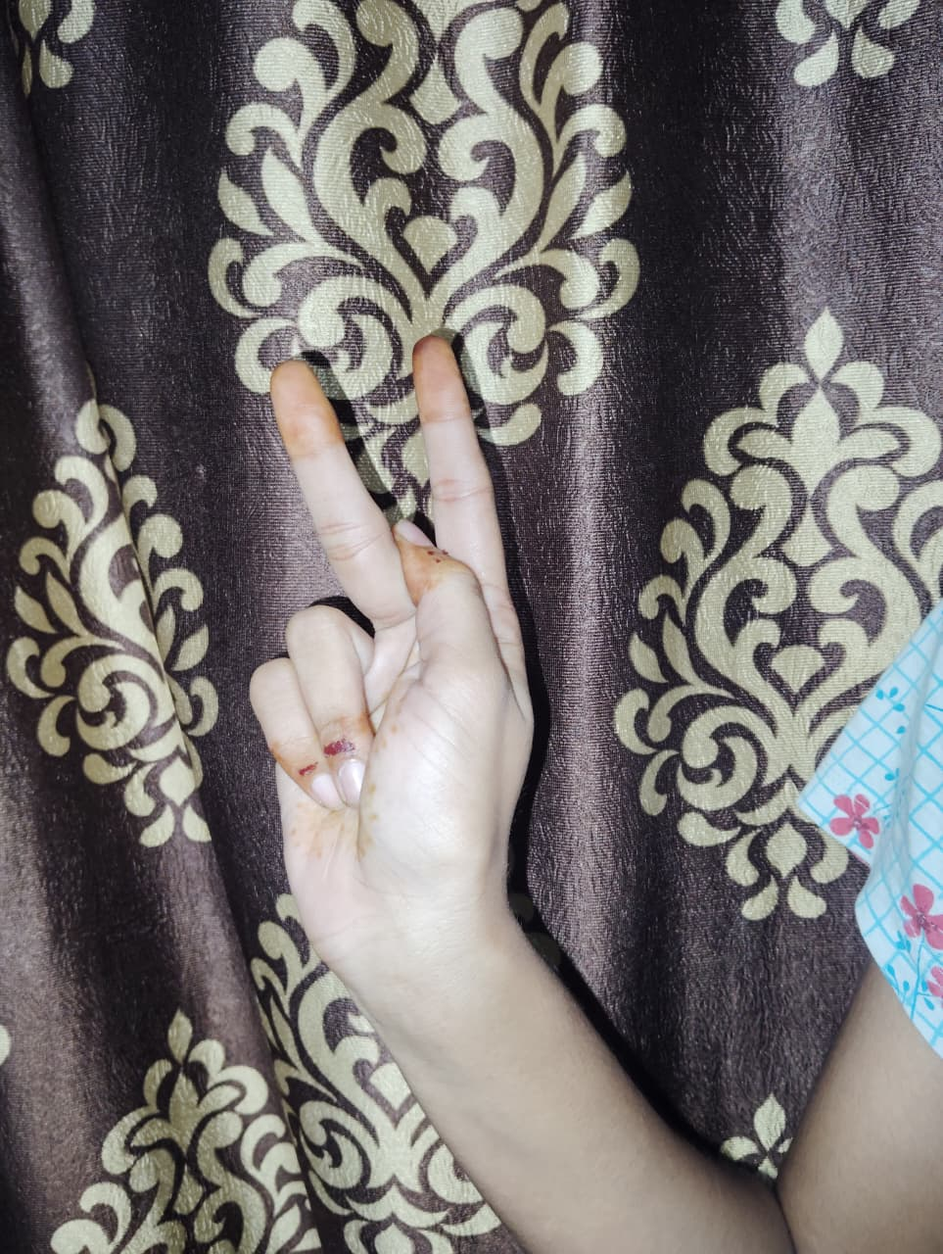K: (250, 335, 534, 948)
